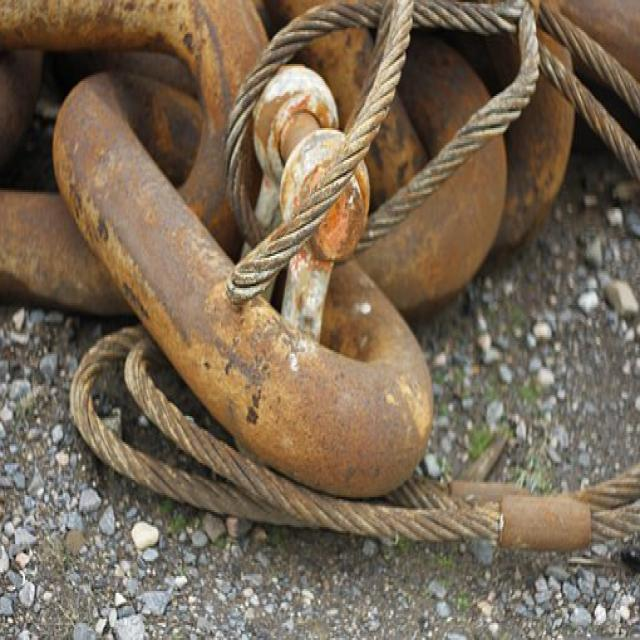corrosion: (0, 0, 640, 553), (256, 62, 372, 343)
